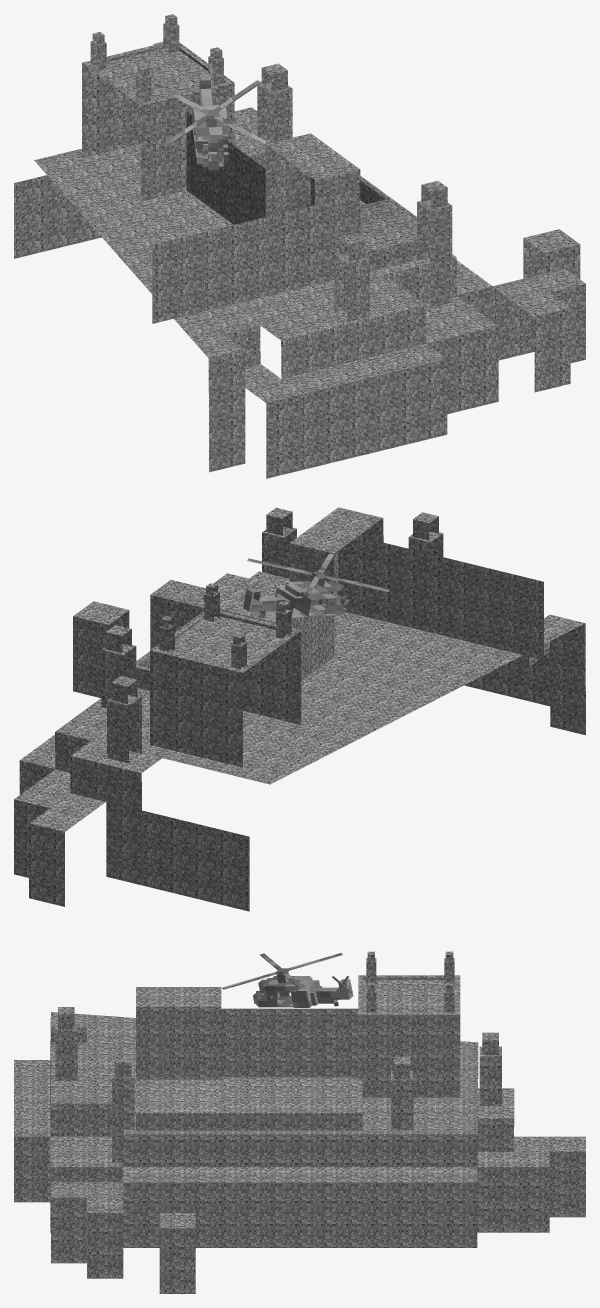
File: Bridge_jail #1007228.fbx
3 renders of one model, top to bottom at view 1: azimuth 30°, elevation 25°; view 2: azimuth 150°, elevation 25°; view 3: azimuth 270°, elevation 25°, orthographic. The views are drawn at different scales.
Parts seen in each view (by area): view 1: jail; view 2: jail; view 3: jail.
Boxes of the visible parts, x1,y1,x2,y2 form: jail: (14,14,585,478); jail: (14,507,585,911); jail: (14,951,585,1293).
Bounding box in the file's own units: 122 × 63.4 × 158.
1 material, 1 textured.
